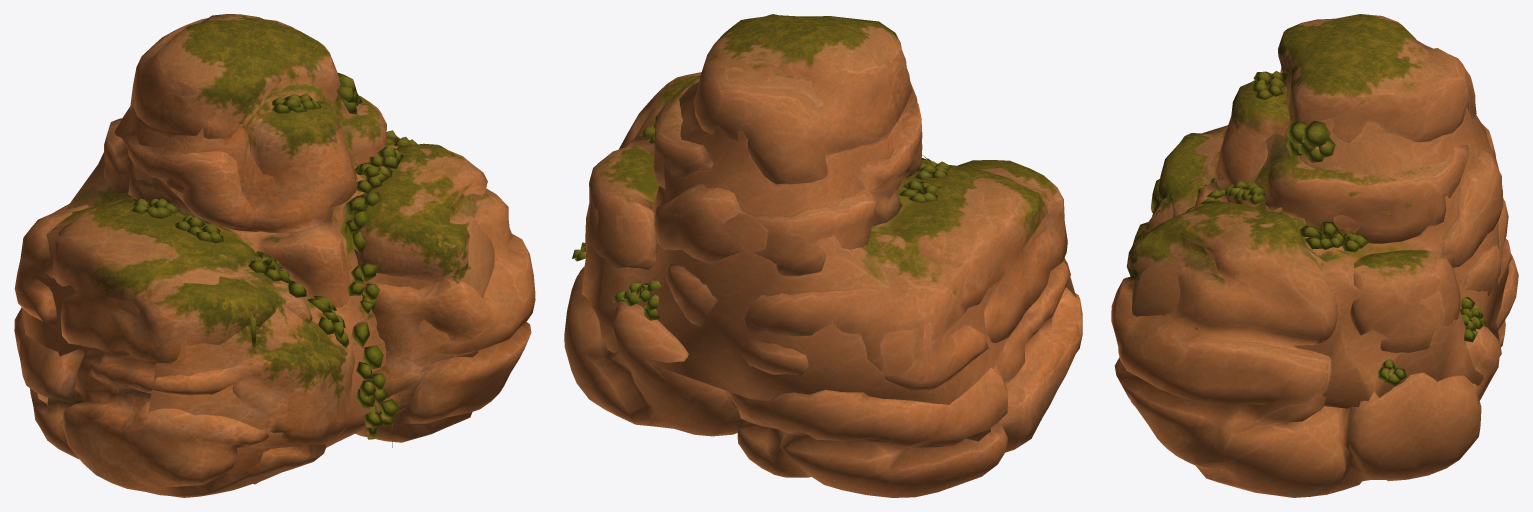
File: moss-boulder.glb
3 views of the same model, side by side, from view 1: azimuth 30°, elevation 25°; view 2: azimuth 150°, elevation 25°; view 3: azimuth 270°, elevation 25° (orthographic). The views are drawn at different scales.
Parts seen in each view (by area): view 1: moss-boulder_LOD0; view 2: moss-boulder_LOD0; view 3: moss-boulder_LOD0.
Part boxes in pixels (box(x1,y1,x2,y2)): moss-boulder_LOD0: box(14, 14, 535, 497); moss-boulder_LOD0: box(564, 14, 1082, 497); moss-boulder_LOD0: box(1111, 14, 1518, 497).
Size of what is drawn, in the model's own units: 1 by 0.9244 by 0.8618.
Materials: 1 (1 with a texture image).
